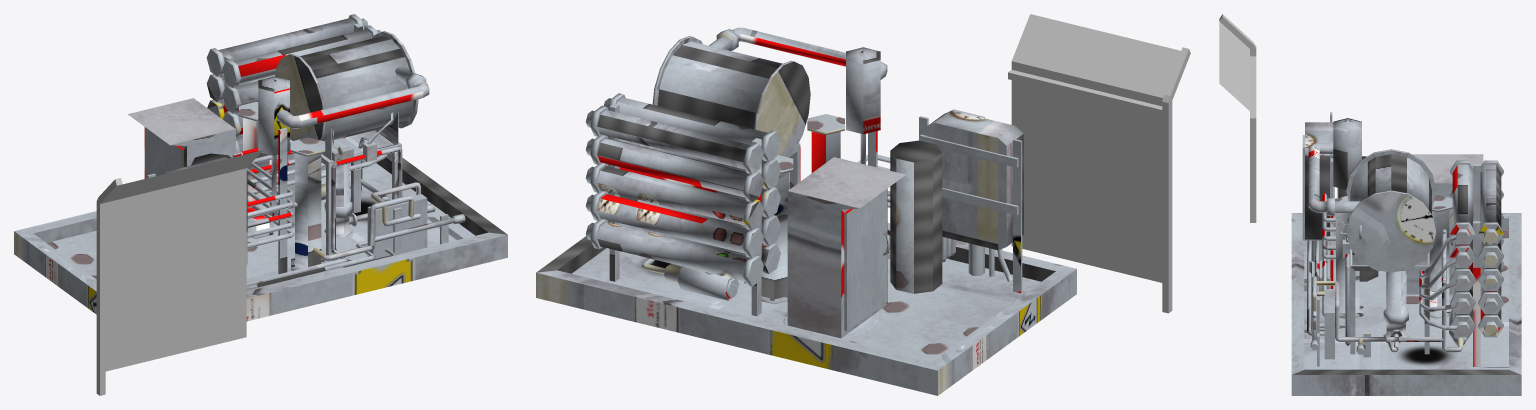
File: HighVoltSN.fbx
The picture shows the model from 3 angles, left to right: view 1: azimuth 30°, elevation 25°; view 2: azimuth 150°, elevation 25°; view 3: azimuth 270°, elevation 25°; orthographic projection. The views are drawn at different scales.
Visible parts, largest first — view 1: HighVolt.001, Fence.001; view 2: HighVolt.001, Fence.001; view 3: HighVolt.001, Fence.001.
Boxes of the visible parts, <box> form: HighVolt.001: <box>14,14,507,321</box>; Fence.001: <box>96,150,263,395</box>; HighVolt.001: <box>536,27,1076,395</box>; Fence.001: <box>1008,14,1190,313</box>; HighVolt.001: <box>1291,112,1521,395</box>; Fence.001: <box>1219,14,1256,222</box>.
Bounding box in the file's own units: 1762 × 891 × 1183.
